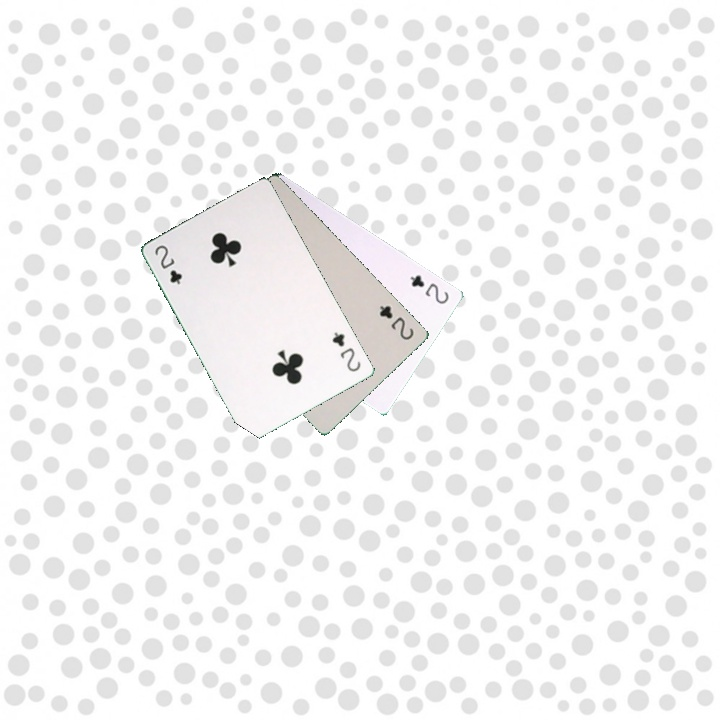2c: (375, 301, 416, 343), (406, 271, 452, 307), (328, 328, 363, 374), (150, 241, 185, 287)
